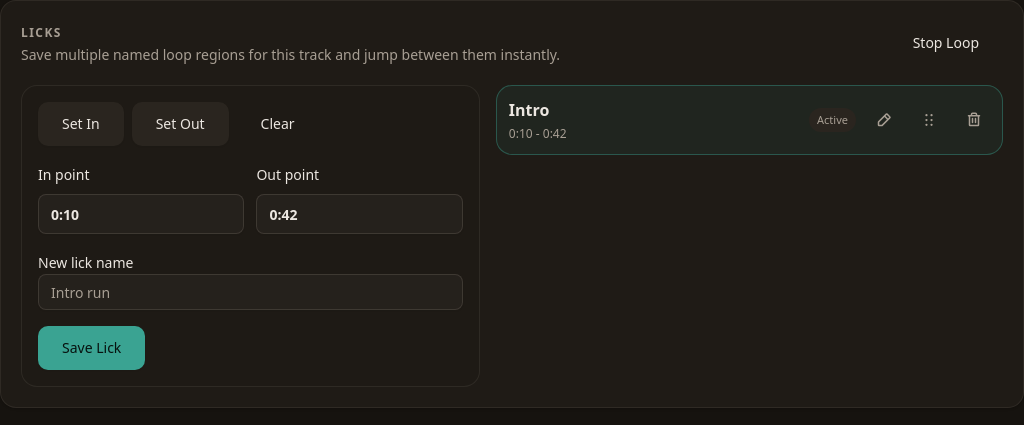
Test: LickPanel › creates a new lick after capturing a new timestamp while another lick is loaded
Check: the button "Save Lick" is shown, box [38, 326, 145, 370]
Click the button "Set In".
click(81, 124)  # box [38, 102, 124, 146]
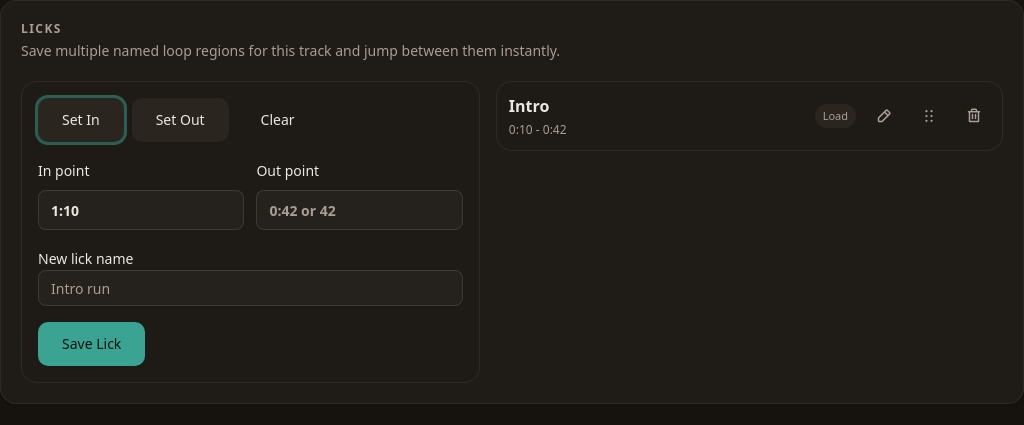
Check: the button "Save Lick" is shown, box [38, 322, 145, 366]
Type "Outro" into the field labelled "New lick name".
click(250, 288); type("Outro")  # box [38, 270, 463, 306]
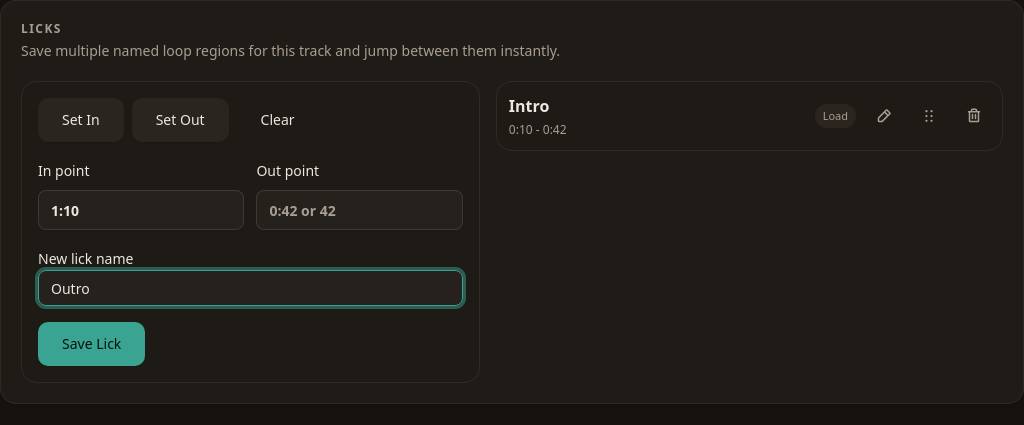
Click the button "Set Out".
click(180, 120)  # box [132, 98, 229, 142]
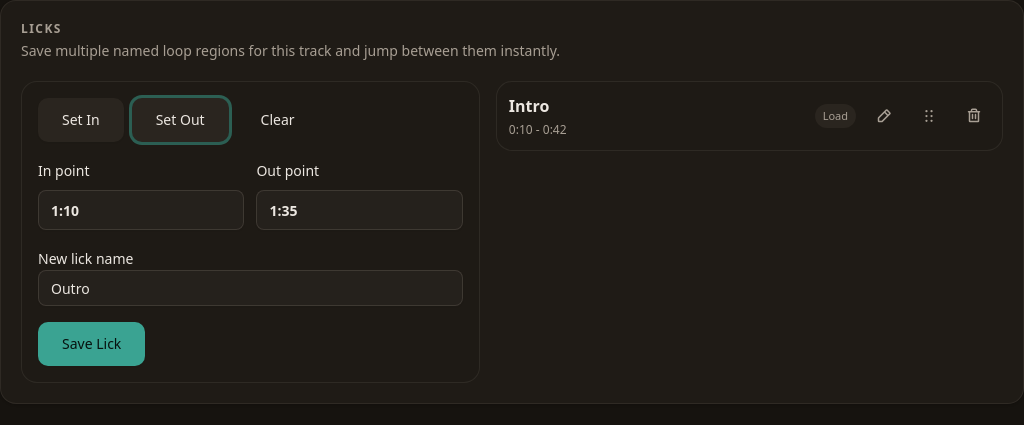
Click the button "Save Lick".
click(92, 344)  # box [38, 322, 145, 366]
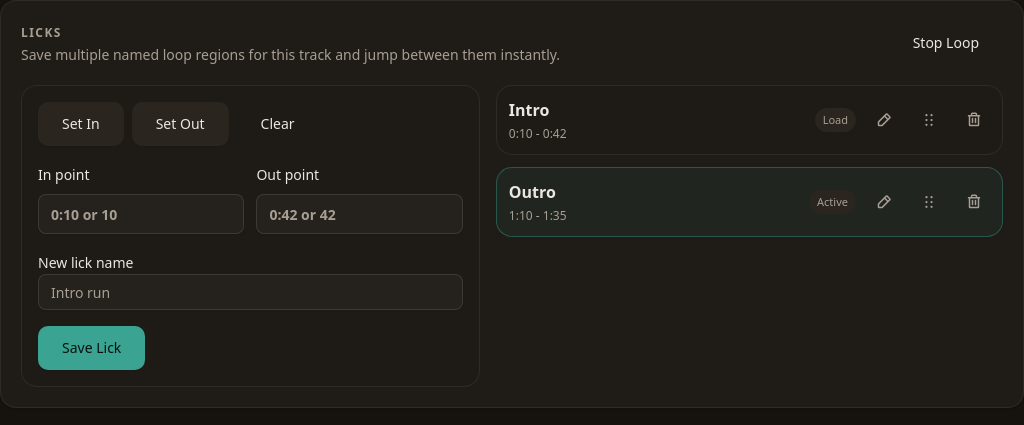
Check: the text "Outro" is shown, box [509, 181, 556, 203]
